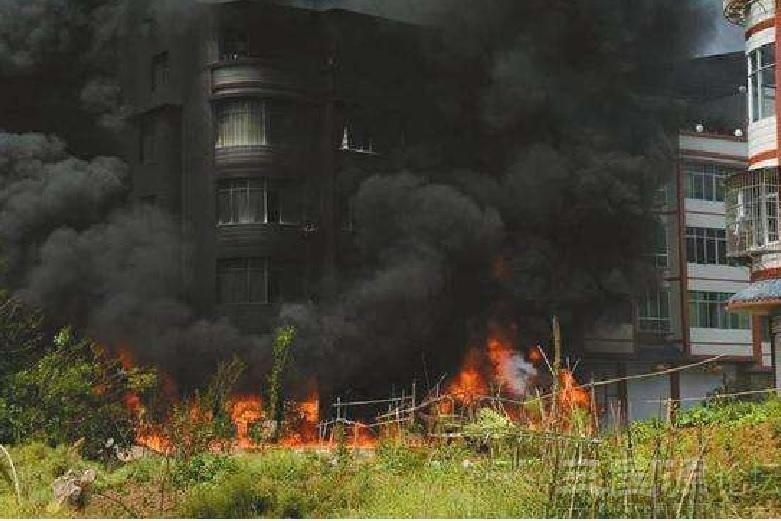fire: (440, 335, 595, 423)
